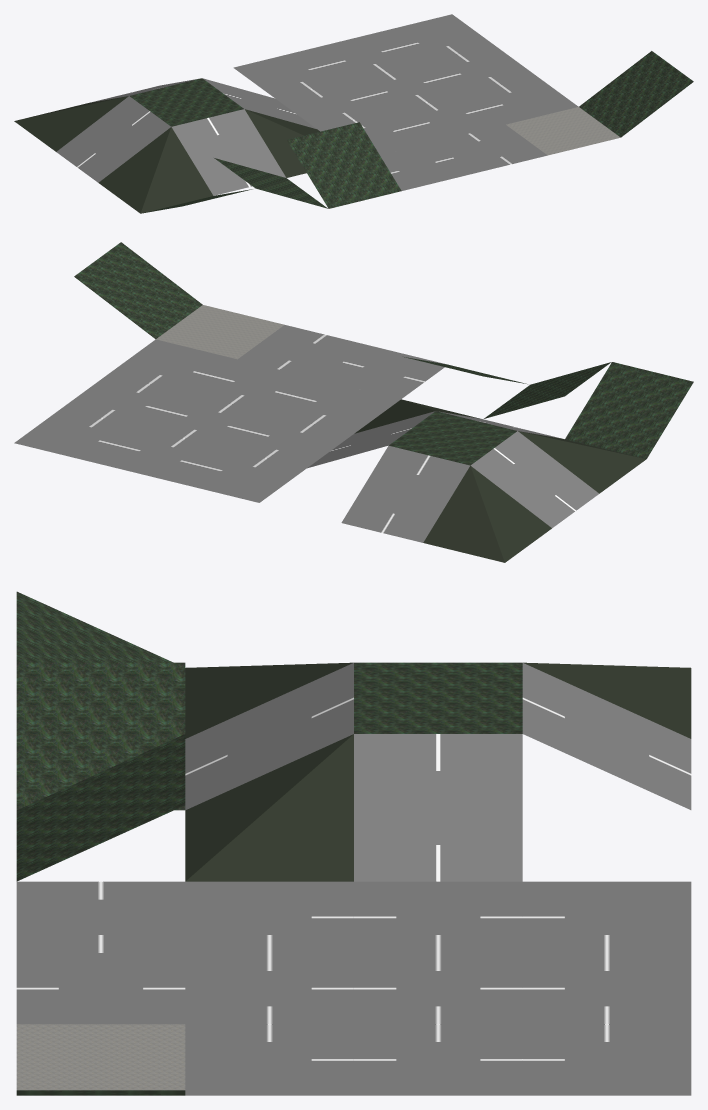
File: GeneralLandscapeMeshs.dae
3 renders of one model, top to bottom at view 1: azimuth 30°, elevation 25°; view 2: azimuth 150°, elevation 25°; view 3: azimuth 270°, elevation 25°, orthographic. The views are drawn at different scales.
Visible parts, largest first — view 1: GrassHill3, HillCorner3, StreetHill3, GrassHill4, StreetHill4, Crossing4Way, Grass, Corner1, Stones, Crossing3Way2, Crossing3Way1, Street1 (+10 smaller); view 2: GrassHill1, StreetHill1, HillCorner4, StreetHill4, GrassHill4, Crossing3Way4, Crossing3Way1, Corner4, Crossing3Way2, Corner3, Stones, Street1 (+10 smaller); view 3: StreetHill2, GrassHill2, HillCorner2, Corner1, Street2, Street1, Crossing3Way4, Corner4, GrassHill3, StreetHill1, Grass, Crossing4Way (+11 smaller).
Boxes of the visible parts, <box> form: GrassHill3: <box>287,122,401,208</box>; HillCorner3: <box>98,127,213,213</box>; StreetHill3: <box>171,109,286,195</box>; GrassHill4: <box>579,51,693,137</box>; StreetHill4: <box>56,96,170,182</box>; Crossing4Way: <box>348,63,463,111</box>; Grass: <box>129,78,243,126</box>; Corner1: <box>379,14,493,62</box>; Stones: <box>506,107,620,155</box>; Crossing3Way2: <box>275,81,389,129</box>; Crossing3Way1: <box>422,45,535,93</box>; Street1: <box>433,124,547,173</box>; GrassHill1: <box>565,362,693,458</box>; StreetHill1: <box>341,445,469,542</box>; HillCorner4: <box>423,466,551,562</box>; StreetHill4: <box>470,431,598,528</box>; GrassHill4: <box>74,242,202,339</box>; Crossing3Way4: <box>96,428,224,482</box>; Crossing3Way1: <box>61,374,189,428</box>; Corner4: <box>178,448,306,502</box>; Crossing3Way2: <box>225,414,353,468</box>; Corner3: <box>272,379,400,433</box>; Stones: <box>156,305,284,359</box>; Street1: <box>238,325,366,379</box>; StreetHill2: <box>354,734,522,881</box>; GrassHill2: <box>16,662,185,810</box>; HillCorner2: <box>185,734,353,881</box>; Corner1: <box>522,1024,691,1095</box>; Street2: <box>16,881,185,952</box>; Street1: <box>16,953,185,1024</box>; Crossing3Way4: <box>522,953,691,1024</box>; Corner4: <box>522,881,691,952</box>; GrassHill3: <box>16,734,185,881</box>; StreetHill1: <box>522,663,691,809</box>; Grass: <box>354,662,522,733</box>; Crossing4Way: <box>354,953,522,1024</box>.
Bounding box in the file's own units: 35 × 20 × 2.5.
13 materials, 13 textured.
